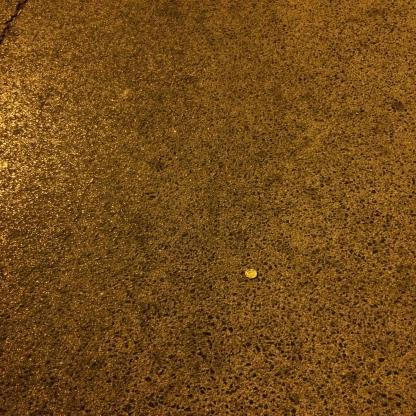metal: (247, 270, 259, 280)
